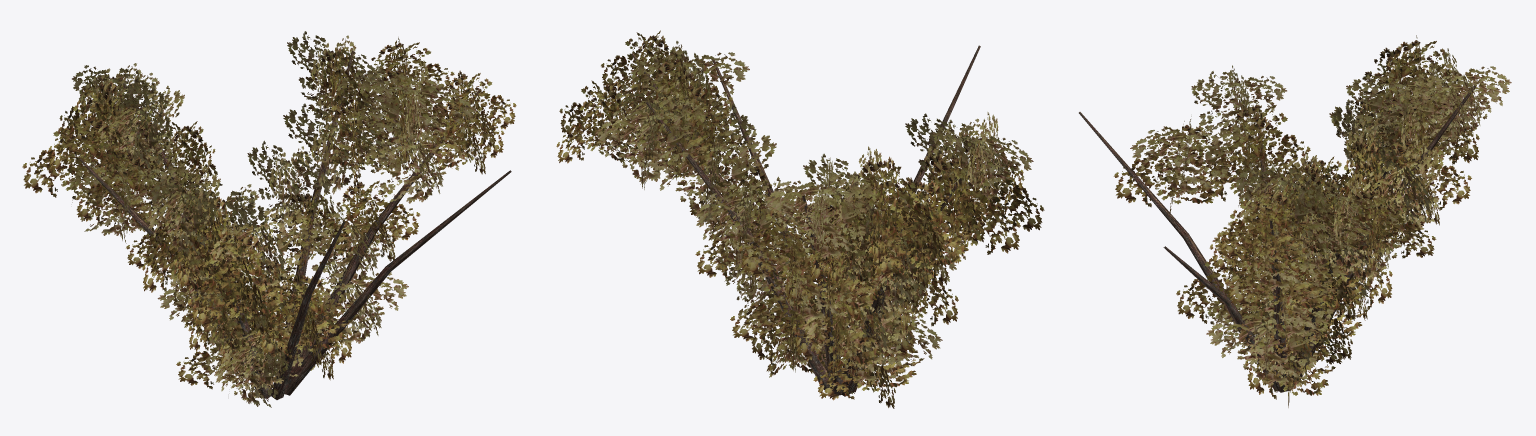
Rendered from bush_3d_06_golden_beige_lod1.glb.
The picture shows the model from 3 angles, left to right: view 1: azimuth 30°, elevation 25°; view 2: azimuth 150°, elevation 25°; view 3: azimuth 270°, elevation 25°; orthographic projection. The views are drawn at different scales.
Parts seen in each view (by area): view 1: foliage_cards, wood_geometry; view 2: foliage_cards, wood_geometry; view 3: foliage_cards, wood_geometry.
Boxes of the visible parts, x1,y1,x2,y2 form: foliage_cards: [22, 31, 516, 407]; wood_geometry: [79, 50, 511, 399]; foliage_cards: [556, 30, 1044, 408]; wood_geometry: [631, 45, 980, 396]; foliage_cards: [1113, 35, 1511, 407]; wood_geometry: [1079, 85, 1475, 392].
Bounding box in the file's own units: 2.93 × 1.94 × 2.64.
Materials: 2 (2 with a texture image).
